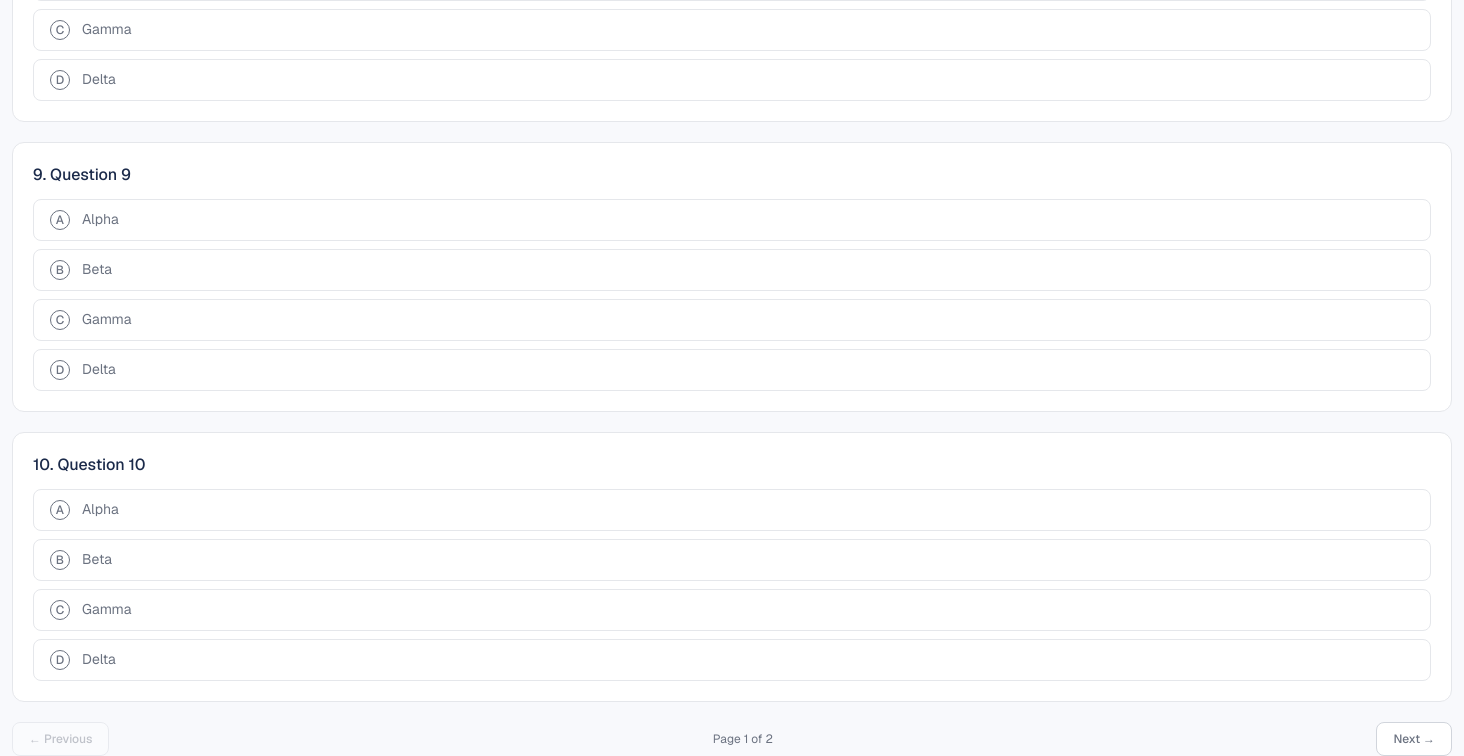
Test: McqQuestions › disables Previous on the first page and Next on the last
(page scrolled)
Expected: the button "← Previous" is disabled, [12, 722, 109, 755]
Click the button "Next →".
click(1414, 739)  # box [1376, 722, 1452, 755]
(page scrolled)
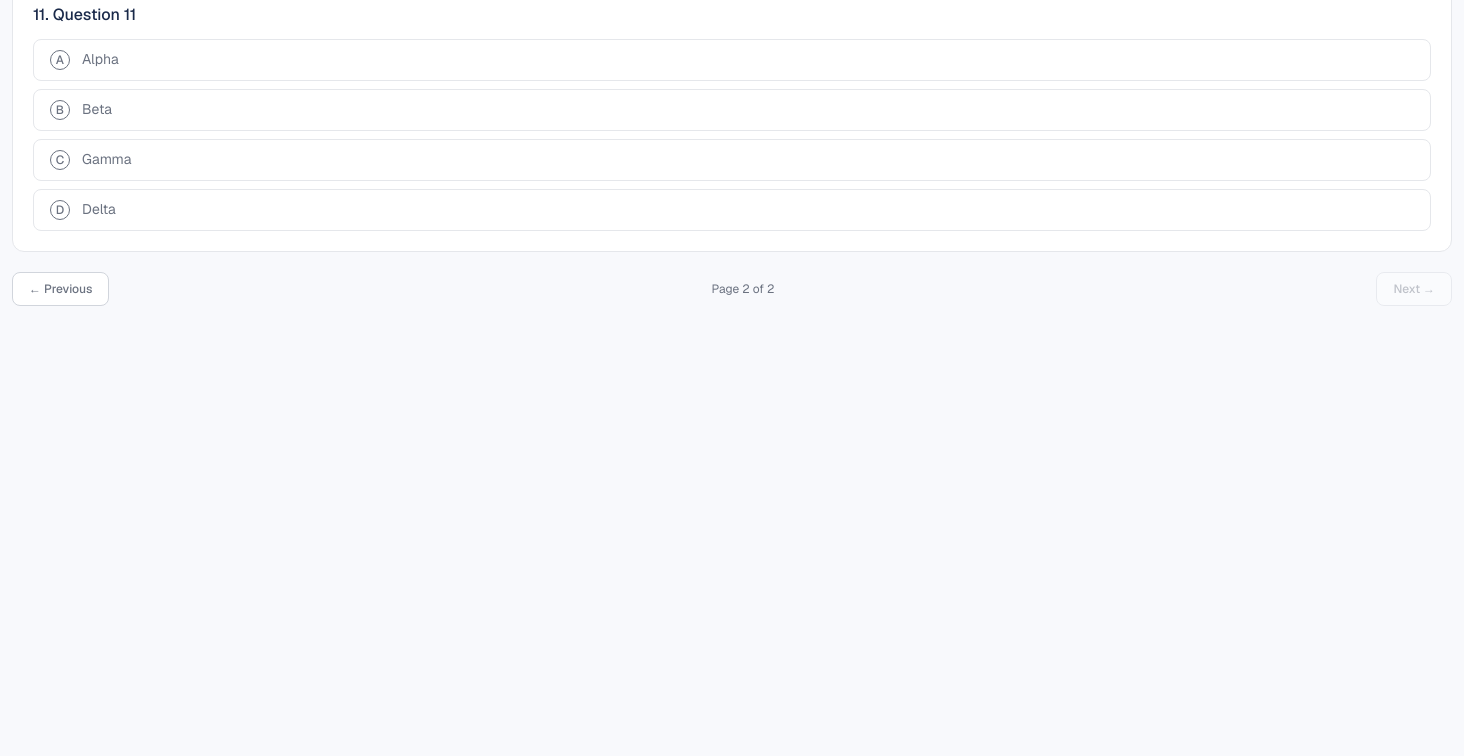
Expected: the button "← Previous" is enabled, [12, 272, 109, 306]
Expected: the button "Next →" is disabled, [1376, 272, 1452, 306]
